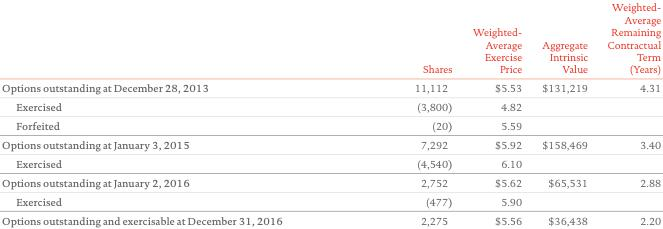table: (0, 0, 660, 226)
table column: (0, 0, 347, 226), (347, 0, 461, 226), (461, 0, 531, 226), (531, 0, 596, 226), (596, 0, 660, 226)
table column header: (0, 0, 660, 78)
table row: (0, 0, 660, 78), (0, 78, 660, 97), (0, 97, 660, 116), (0, 134, 660, 153), (0, 153, 660, 172), (0, 172, 660, 191), (0, 191, 660, 210), (0, 116, 660, 134), (0, 210, 660, 226)
